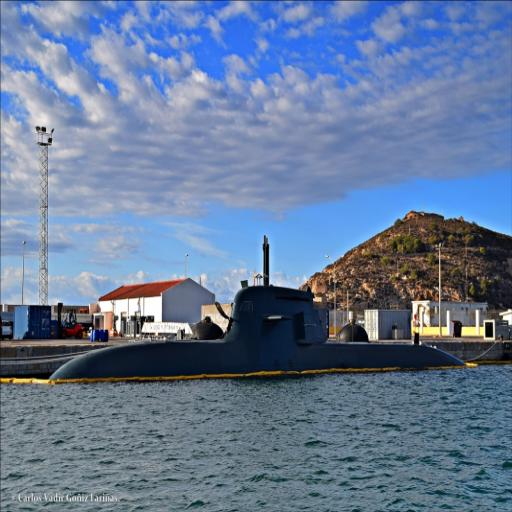submarine: (52, 233, 500, 381)
